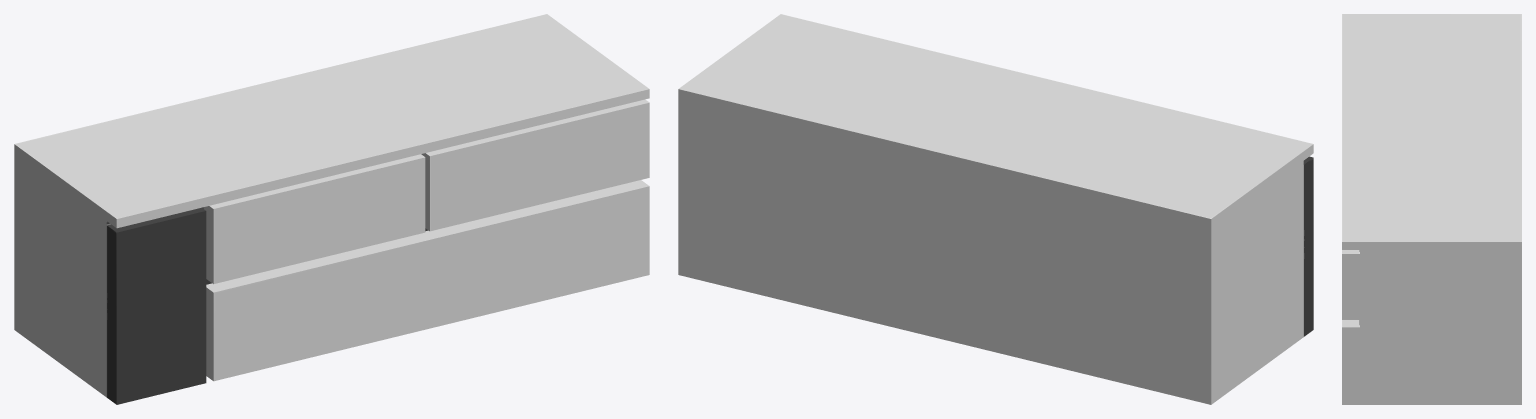
The model's file is X3BoxTVstand.fbx.
3 renders of one model, left to right at view 1: azimuth 30°, elevation 25°; view 2: azimuth 150°, elevation 25°; view 3: azimuth 270°, elevation 25°, orthographic. The views are drawn at different scales.
Parts seen in each view (by area): view 1: TVtana3; view 2: TVtana3; view 3: TVtana3.
Part boxes in pixels (x1=…): TVtana3: x1=14, y1=14, x2=649, y2=404; TVtana3: x1=678, y1=14, x2=1313, y2=404; TVtana3: x1=1342, y1=14, x2=1521, y2=404.
Size of the model in its own units: 3 by 1 by 1.
1 material, 1 textured.
